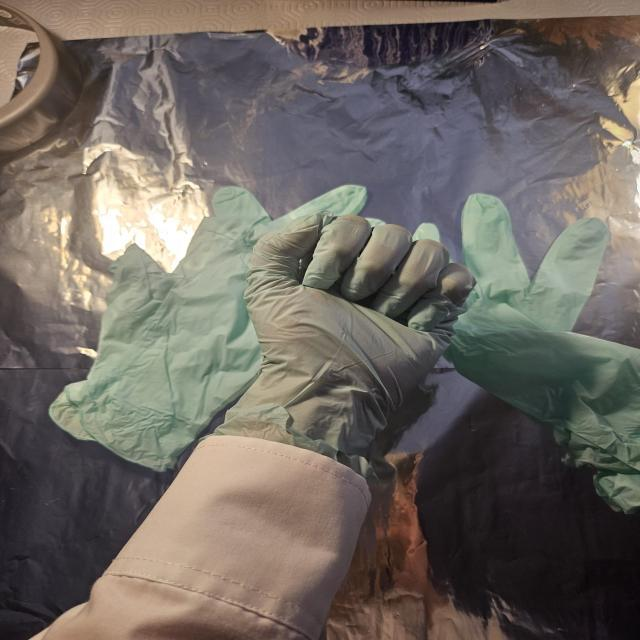gloves_damaged: (209, 210, 478, 488)
